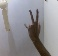hand: (22, 8, 43, 41)
